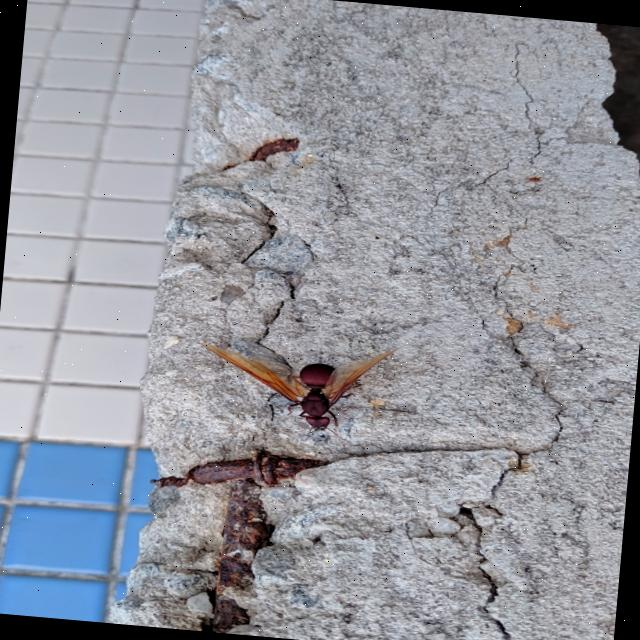Alive-Female-Alate: (188, 329, 401, 448)
